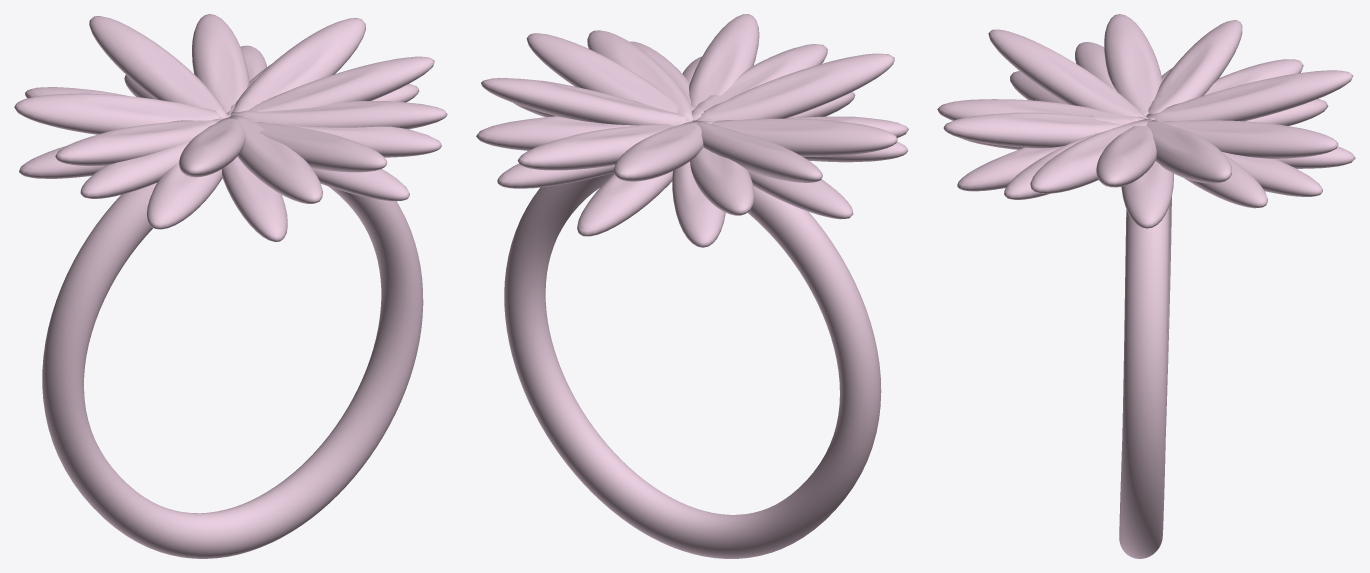
The model's file is romashka.glb.
The picture shows the model from 3 angles, left to right: view 1: azimuth 30°, elevation 25°; view 2: azimuth 150°, elevation 25°; view 3: azimuth 270°, elevation 25°; orthographic projection. The views are drawn at different scales.
Parts seen in each view (by area): view 1: BézierCurve.020; view 2: BézierCurve.020; view 3: BézierCurve.020.
Boxes of the visible parts, x1,y1,x2,y2 form: BézierCurve.020: [14, 14, 447, 558]; BézierCurve.020: [476, 14, 908, 558]; BézierCurve.020: [937, 14, 1355, 558].
Bounding box in the file's own units: 29.38 × 35.1 × 29.02.
